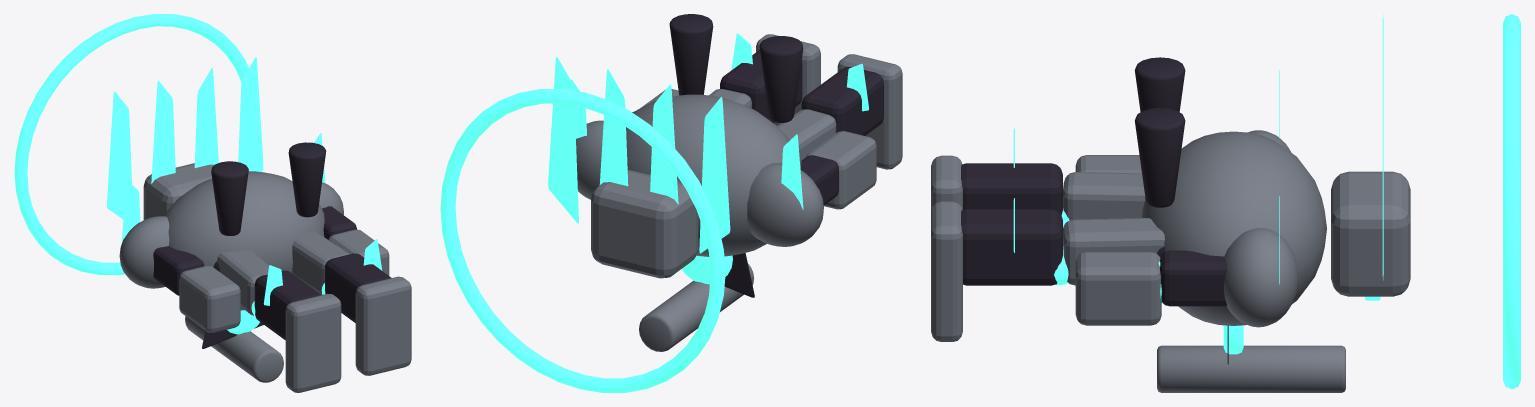
The model's file is boss_crystal_enemy.glb.
The picture shows the model from 3 angles, left to right: view 1: azimuth 30°, elevation 25°; view 2: azimuth 150°, elevation 25°; view 3: azimuth 270°, elevation 25°; orthographic projection. The views are drawn at different scales.
Visible parts, largest first — view 1: torso, boss-halo, foot.001, foot, forearm, shoulder-shell, enemy-cannon, boss-banner0, enemy-thruster.001, enemy-thruster, lower-leg.001, boss-banner3 (+15 smaller); view 2: boss-halo, torso, head, shoulder-shell, lower-leg, enemy-cannon, boss-banner3, forearm, foot, enemy-thruster, boss-banner0, enemy-thruster.001 (+14 smaller); view 3: torso, head, enemy-cannon, lower-leg.001, boss-halo, forearm.001, shoulder-shell.001, lower-leg, foot.001, enemy-thruster.001, upper-leg, upper-leg.001 (+5 smaller).
Part boxes in pixels (left/top/right/bottom): torso: left=164, top=171, right=324, bottom=310; boss-halo: left=14, top=14, right=248, bottom=275; foot.001: left=355, top=276, right=411, bottom=375; foot: left=285, top=293, right=341, bottom=392; forearm: left=179, top=265, right=240, bottom=332; shoulder-shell: left=119, top=216, right=169, bottom=288; enemy-cannon: left=185, top=316, right=283, bottom=382; boss-banner0: left=107, top=91, right=131, bottom=219; enemy-thruster.001: left=288, top=142, right=326, bottom=217; enemy-thruster: left=211, top=161, right=248, bottom=235; lower-leg.001: left=325, top=253, right=391, bottom=322; boss-banner3: left=238, top=57, right=263, bottom=171; boss-halo: left=440, top=89, right=725, bottom=392; torso: left=626, top=94, right=801, bottom=256; head: left=591, top=170, right=698, bottom=278; shoulder-shell: left=747, top=163, right=823, bottom=246; lower-leg: left=801, top=66, right=883, bottom=135; enemy-cannon: left=639, top=264, right=754, bottom=351; boss-banner3: left=548, top=57, right=578, bottom=223; forearm: left=806, top=131, right=876, bottom=209; foot: left=837, top=54, right=902, bottom=169; enemy-thruster: left=759, top=36, right=803, bottom=122; boss-banner0: left=699, top=97, right=730, bottom=253; enemy-thruster.001: left=669, top=14, right=713, bottom=95; torso: left=1141, top=131, right=1326, bottom=325; head: left=1331, top=171, right=1410, bottom=296; enemy-cannon: left=1157, top=345, right=1345, bottom=392; lower-leg.001: left=961, top=209, right=1062, bottom=285; boss-halo: left=1503, top=14, right=1520, bottom=389; forearm.001: left=1075, top=252, right=1161, bottom=325; shoulder-shell.001: left=1223, top=228, right=1298, bottom=327; lower-leg: left=961, top=163, right=1062, bottom=214; foot.001: left=931, top=201, right=962, bottom=341; enemy-thruster.001: left=1135, top=108, right=1185, bottom=207; upper-leg: left=1063, top=172, right=1145, bottom=220; upper-leg.001: left=1063, top=218, right=1164, bottom=285.
Bounding box in the file's own units: 3.12 × 3.29 × 4.9.
